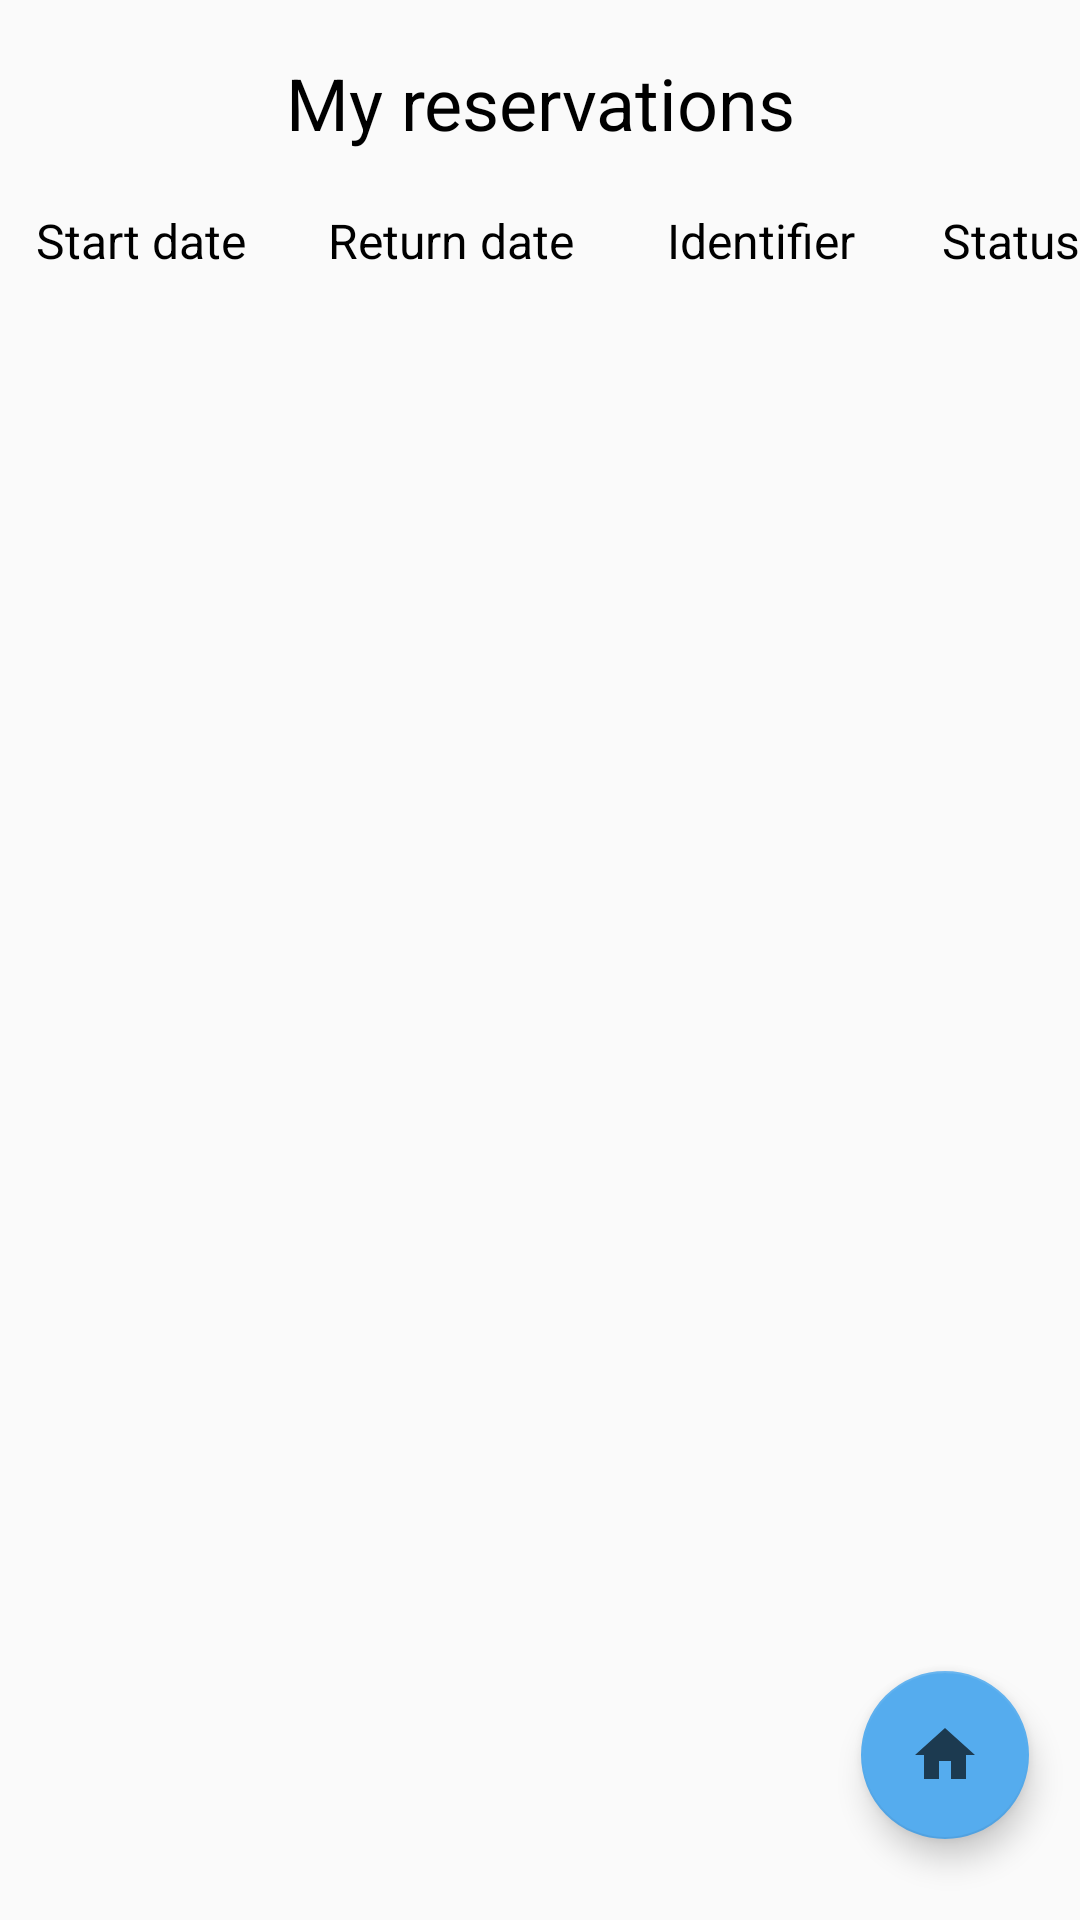

Icon click points for this 1080px×1920px phone screenshot, format point (x, y):
home: point (945, 1755)
